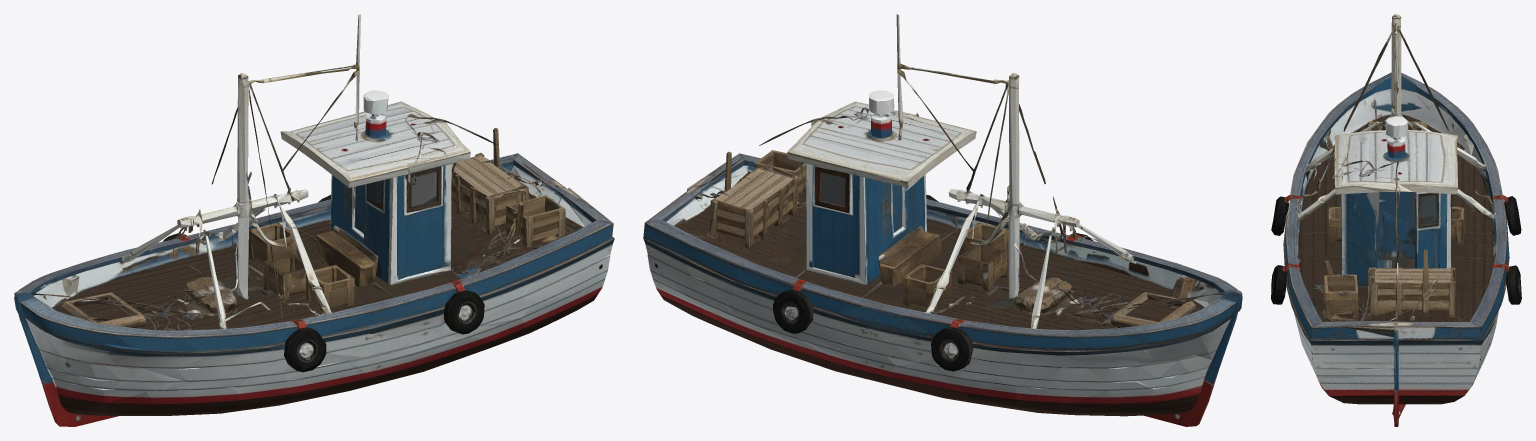
The model's file is bateau.glb.
3 renders of one model, left to right at view 1: azimuth 30°, elevation 25°; view 2: azimuth 150°, elevation 25°; view 3: azimuth 270°, elevation 25°, orthographic. The views are drawn at different scales.
Size of the model in its own units: 1.9 by 1.12 by 0.8361.
Materials: 1 (1 with a texture image).
